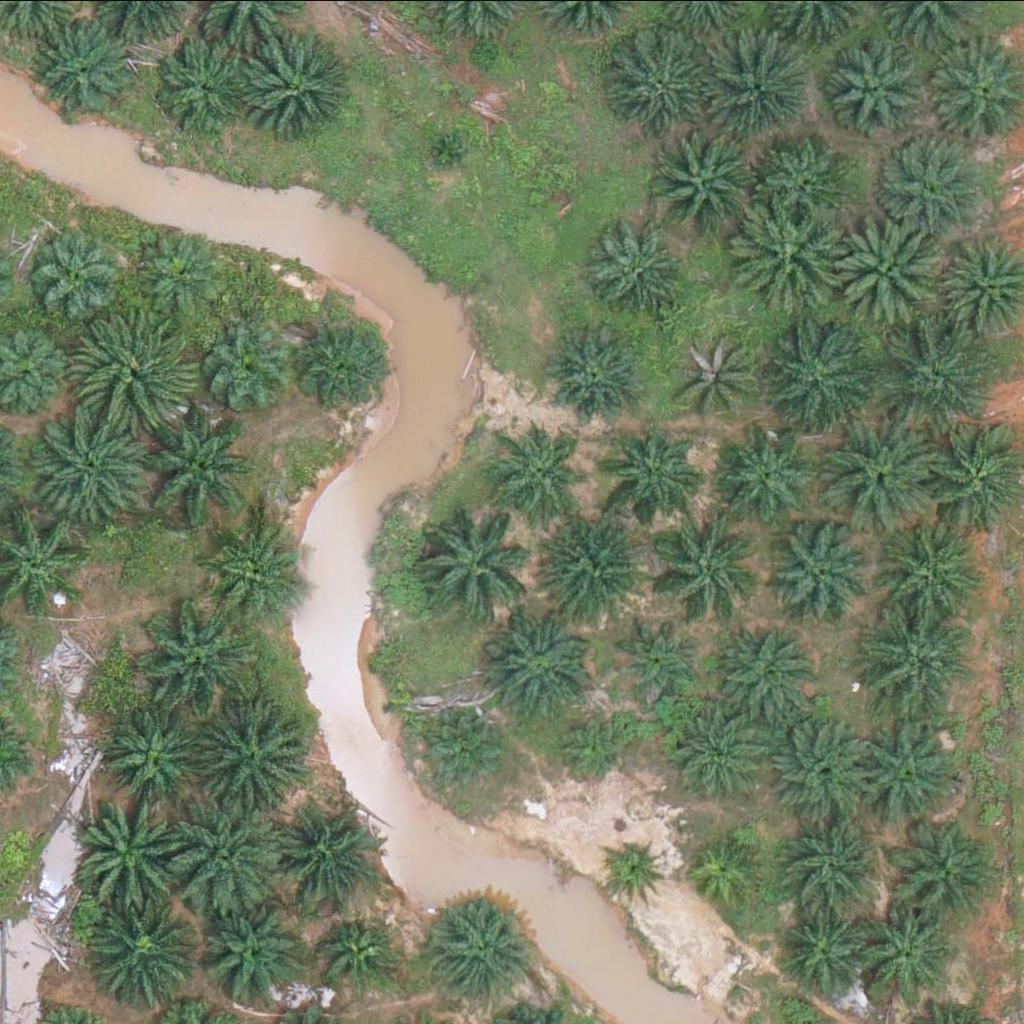Kelapa_Sawit: (196, 702, 310, 815), (245, 31, 358, 144), (703, 30, 816, 143), (414, 505, 527, 618), (487, 611, 600, 724), (765, 713, 878, 826), (853, 716, 966, 829), (892, 814, 1005, 927), (75, 314, 188, 427), (92, 895, 205, 1008), (645, 507, 759, 619), (862, 609, 976, 721), (36, 403, 150, 515), (647, 126, 760, 238), (730, 203, 843, 315), (828, 216, 941, 328), (883, 314, 996, 426), (762, 318, 875, 430), (138, 414, 251, 526), (824, 420, 937, 532), (881, 519, 994, 631), (542, 516, 655, 628), (138, 603, 251, 715), (171, 795, 284, 907), (75, 796, 188, 908), (155, 37, 256, 137), (833, 37, 934, 137), (877, 136, 978, 236), (588, 222, 689, 322), (608, 426, 709, 526), (770, 524, 871, 624), (201, 907, 302, 1007), (721, 624, 822, 724), (787, 816, 888, 916), (778, 901, 879, 1001), (102, 708, 203, 808), (35, 18, 136, 118), (618, 34, 718, 134), (290, 316, 390, 416), (543, 325, 643, 425), (712, 426, 812, 526), (211, 519, 311, 619), (276, 809, 376, 909), (436, 899, 536, 999), (669, 701, 769, 801), (858, 906, 958, 1006), (761, 138, 849, 226), (197, 324, 285, 412), (615, 613, 703, 701), (423, 708, 511, 796), (132, 227, 220, 315), (674, 329, 762, 416), (504, 427, 592, 514), (40, 230, 128, 317), (318, 917, 393, 992), (554, 709, 629, 784), (692, 833, 767, 908), (605, 836, 668, 899), (420, 129, 471, 179)
